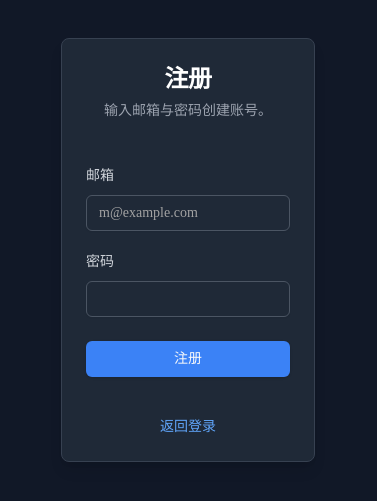
Test: Register Page › displays server error for unexpected errors
Type "test@test.com" into the field labelled "邮箱" at (188, 213), box x1=86 y1=195 x2=290 y2=231
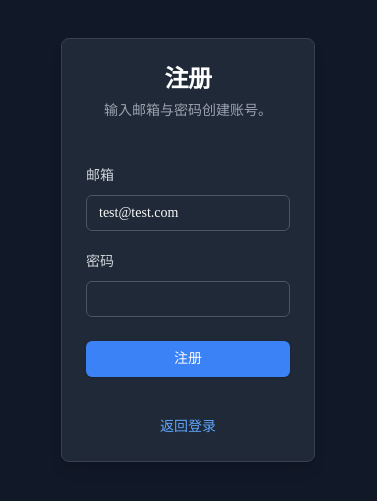
Type "@1231231%a" into the password field labelled "密码" at (188, 299), box x1=86 y1=281 x2=290 y2=317
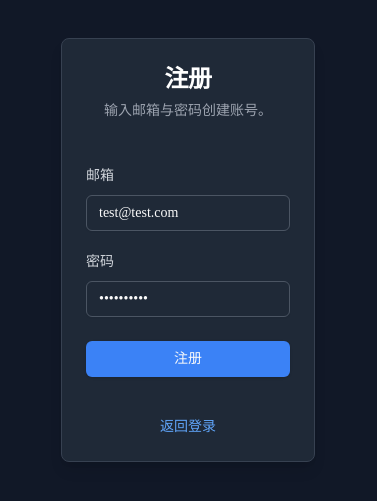
Click the button "注册" at (188, 359), box x1=86 y1=341 x2=290 y2=377
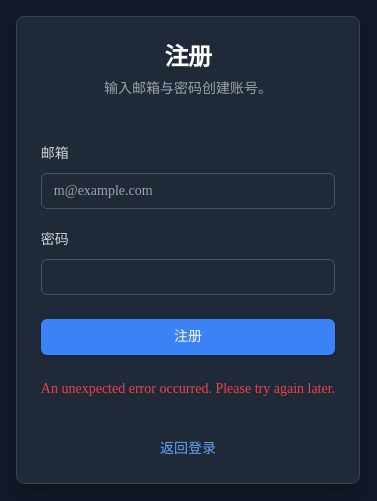
Result: the text "An unexpected error occurred. Please try again later." is shown at x1=41 y1=379 x2=335 y2=399
